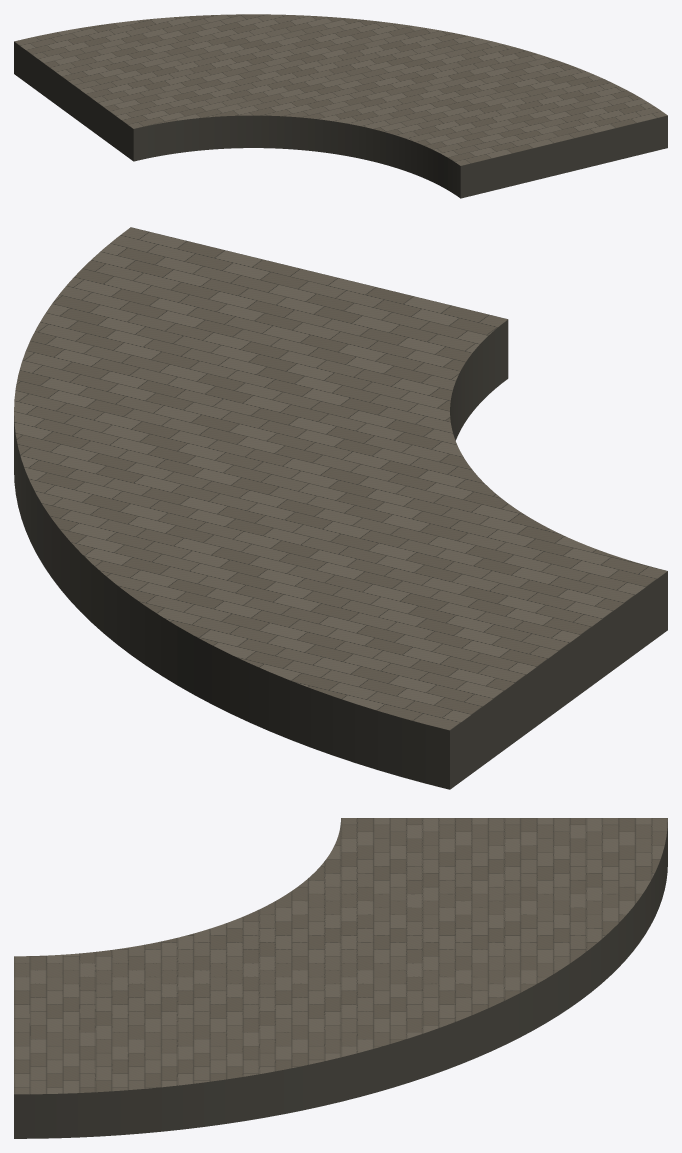
File: OAR_Sidewalk_Curve90_Inner_Right.fbx
3 views of the same model, one above another, from view 1: azimuth 30°, elevation 25°; view 2: azimuth 150°, elevation 25°; view 3: azimuth 270°, elevation 25° (orthographic). The views are drawn at different scales.
Visible parts, largest first — view 1: Body; view 2: Body; view 3: Body.
Part boxes in pixels (x1,y1,x2,y2): Body: (14, 14, 667, 198); Body: (14, 227, 667, 789); Body: (14, 818, 667, 1138).
Size of the model in its own units: 4 by 0.3 by 4.
